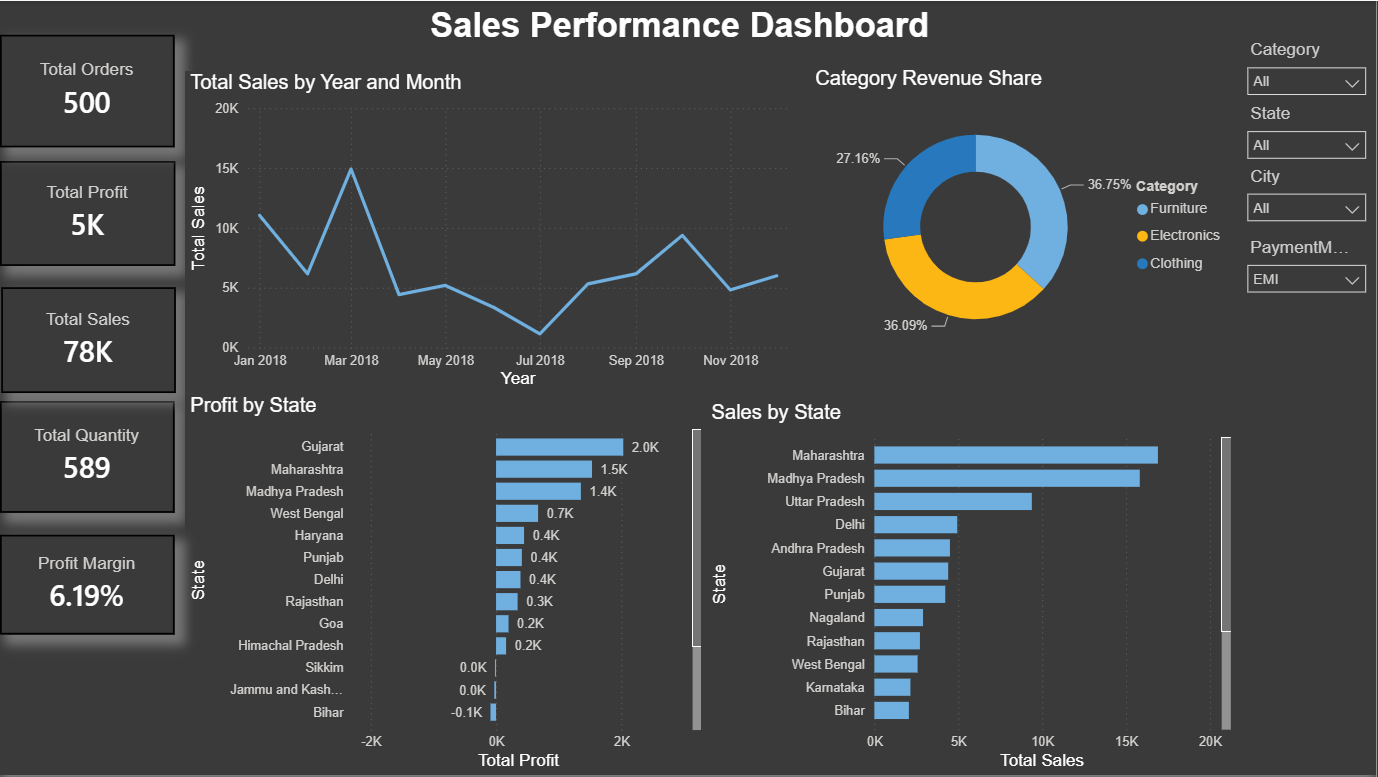

The page's visual inventory and layout, read from the dashboard file:
{"tool":"powerbi","page":{"name":"Executive Dashboard","canvas":[1280,720],"ordinal":0},"visuals":[{"type":"cardVisual","fields":{"Data":["Orders.Total Profit"]},"box":[0,148.8,163.4,97.6],"z":0},{"type":"cardVisual","fields":{"Data":["Orders.Total Quantity"]},"box":[0,372,162.2,103.7],"z":1000},{"type":"cardVisual","fields":{"Data":["Orders.Total Orders"]},"box":[0,31.7,162.2,104.9],"z":2000},{"type":"cardVisual","fields":{"Data":["Orders.Total Sales"]},"box":[1.2,265.9,162.2,98.8],"z":3000},{"type":"lineChart","fields":{"Category":["Orders.Order Date.Variation.Date Hierarchy.Year","Orders.Order Date.Variation.Date Hierarchy.Month"],"Y":["Orders.Total Sales"]},"box":[172,64.6,581.7,300],"z":4000},{"type":"clusteredBarChart","title":"Sales by State","fields":{"Category":["Orders.State"],"Y":["Orders.Total Sales"]},"box":[657.3,372,492.7,347.6],"z":5000},{"type":"clusteredBarChart","title":"Profit by State","fields":{"Category":["Orders.State"],"Y":["Orders.Total Profit"]},"box":[172,364.6,485.4,354.9],"z":6000},{"type":"donutChart","title":"Category Revenue Share","fields":{"Category":["Details.Category"],"Y":["Orders.Total Sales"]},"box":[753.7,62.2,396.3,276.8],"z":7000},{"type":"slicer","fields":{"Values":["Orders.State"]},"box":[1150,90.2,130.5,58.5],"z":8000},{"type":"slicer","fields":{"Values":["Orders.City"]},"box":[1150,148.8,130.5,62.2],"z":9000},{"type":"slicer","fields":{"Values":["Details.Category"]},"box":[1150,31.7,130.5,62.2],"z":10000},{"type":"slicer","fields":{"Values":["Details.PaymentMode"]},"box":[1150,214.6,130.5,62.2],"z":11000},{"type":"textbox","box":[395.1,0,531.7,63.4],"z":12000},{"type":"cardVisual","fields":{"Data":["Orders.Profit Margin"]},"box":[0,496.3,162.2,92.7],"z":13000}]}

Visuals, with their boxes in screenshot pixels (x1, y1, x2, y2), scaled from the page's 1280x720 canvas onto the 1378x777 screenshot:
cardVisual - Orders.Total Profit: [0,161,176,266]
cardVisual - Orders.Total Quantity: [0,401,175,513]
cardVisual - Orders.Total Orders: [0,34,175,147]
cardVisual - Orders.Total Sales: [1,287,176,394]
lineChart - Orders.Order Date.Variation.Date Hierarchy.Year x Orders.Order Date.Variation.Date Hierarchy.Month: [185,70,811,393]
"Sales by State" clusteredBarChart: [708,401,1238,776]
"Profit by State" clusteredBarChart: [185,393,708,776]
"Category Revenue Share" donutChart: [811,67,1238,366]
slicer - Orders.State: [1238,97,1377,160]
slicer - Orders.City: [1238,161,1377,228]
slicer - Details.Category: [1238,34,1377,101]
slicer - Details.PaymentMode: [1238,232,1377,299]
textbox: [425,0,998,68]
cardVisual - Orders.Profit Margin: [0,536,175,636]
